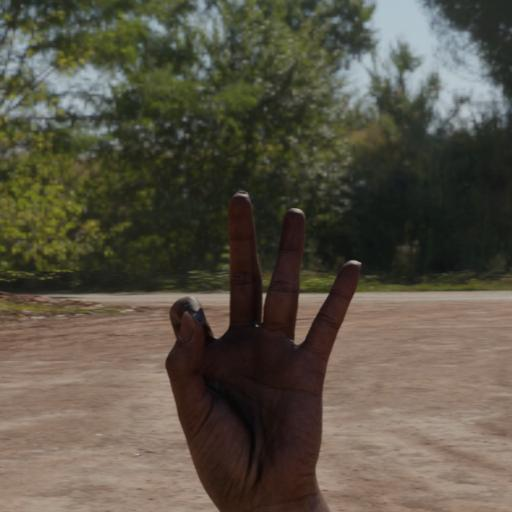F: (158, 187, 365, 504)
